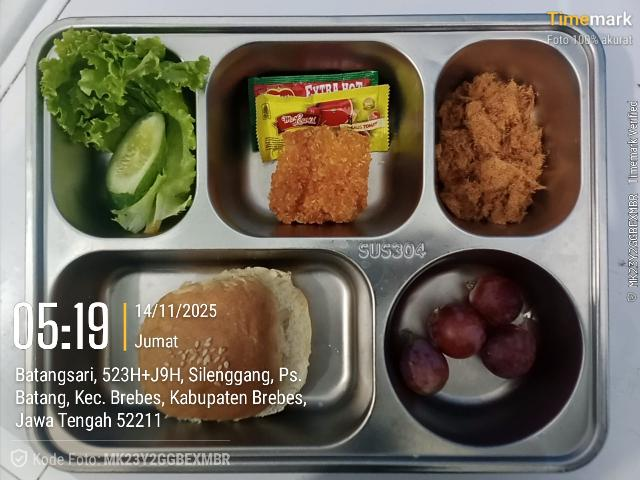ayam: (436, 73, 546, 224)
buah: (400, 302, 486, 395)
roti: (138, 267, 311, 421)
sayur: (39, 29, 210, 232)
tahu: (269, 126, 371, 224)
